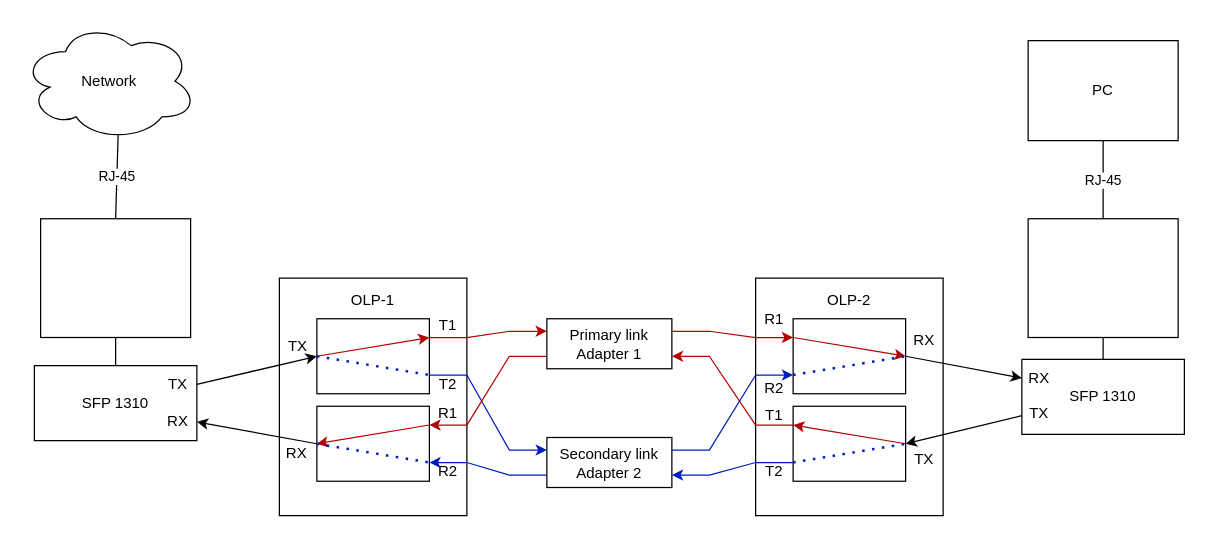
Some shapes in this 1206 by 538 pixel diagram are drawn without their labels. The shapes that lost their labels are listed below. From the top down, each one's centre as x and y in pixels, then its label:
At (115,278): "Media Converter 1".
At (1102,278): "Media Converter 2".
